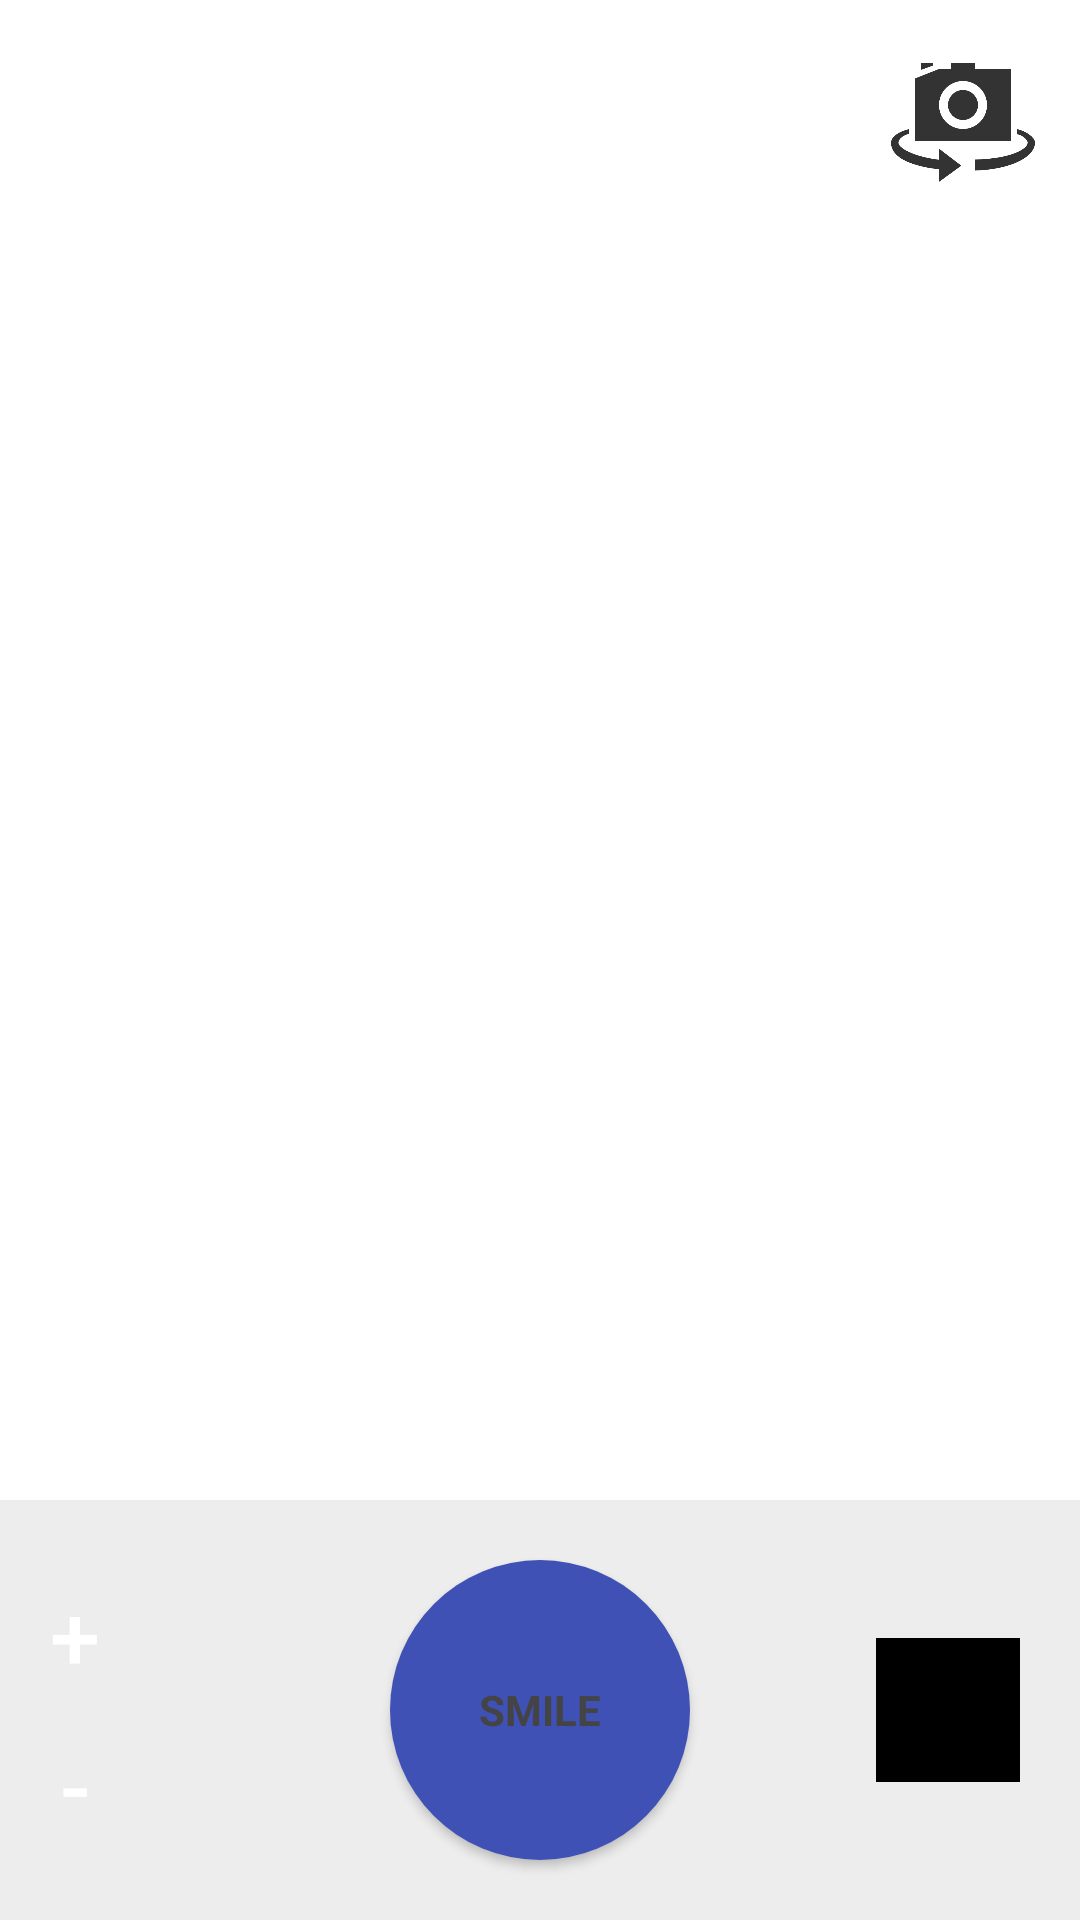

Point at icon controls on the screen. Image size 1080px x 1920px, points as (x,y).
camerarotate: (963,122)
